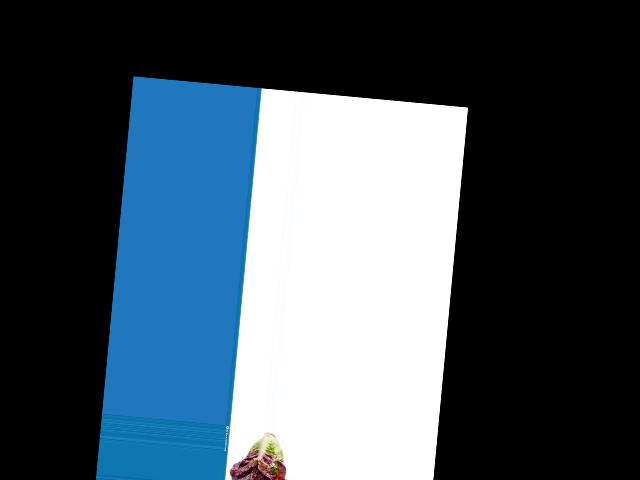lettuce: (226, 428, 292, 480)
